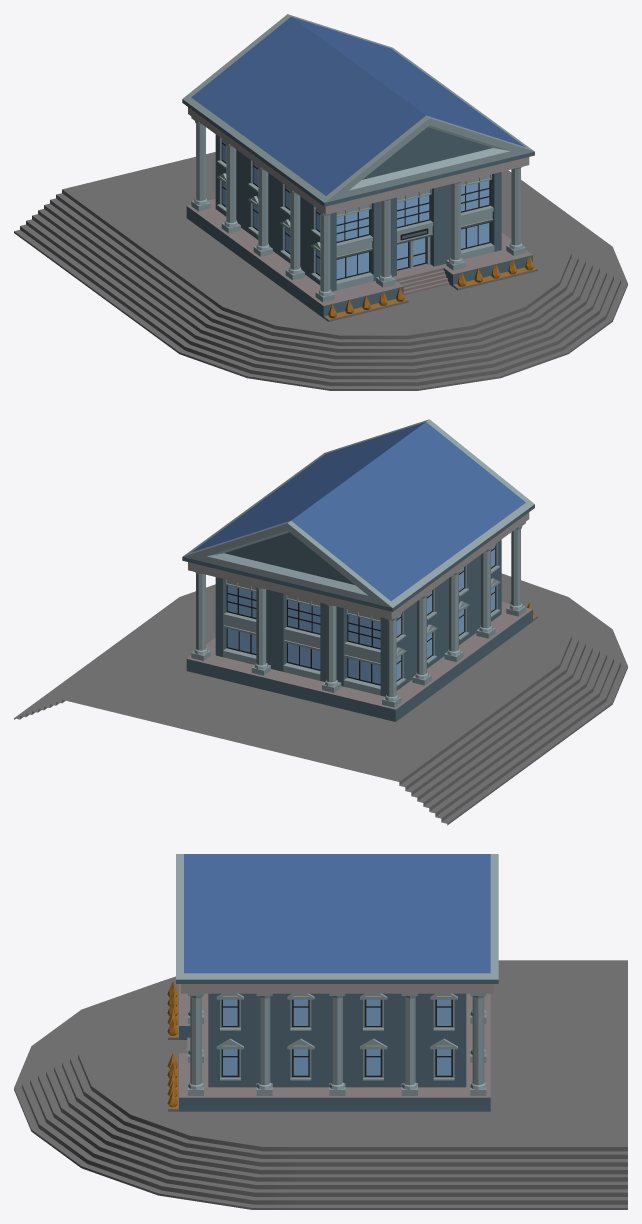
The model's file is Stairs building.fbx.
3 views of the same model, one above another, from view 1: azimuth 30°, elevation 25°; view 2: azimuth 150°, elevation 25°; view 3: azimuth 270°, elevation 25° (orthographic). The views are drawn at different scales.
Parts seen in each view (by area): view 1: Stairs base; view 2: Stairs base; view 3: Stairs base.
Part boxes in pixels (x1,y1,x2,y2): Stairs base: [14, 14, 627, 390]; Stairs base: [14, 419, 627, 825]; Stairs base: [14, 854, 627, 1209].
Bounding box in the file's own units: 3138 × 1439 × 3393.
